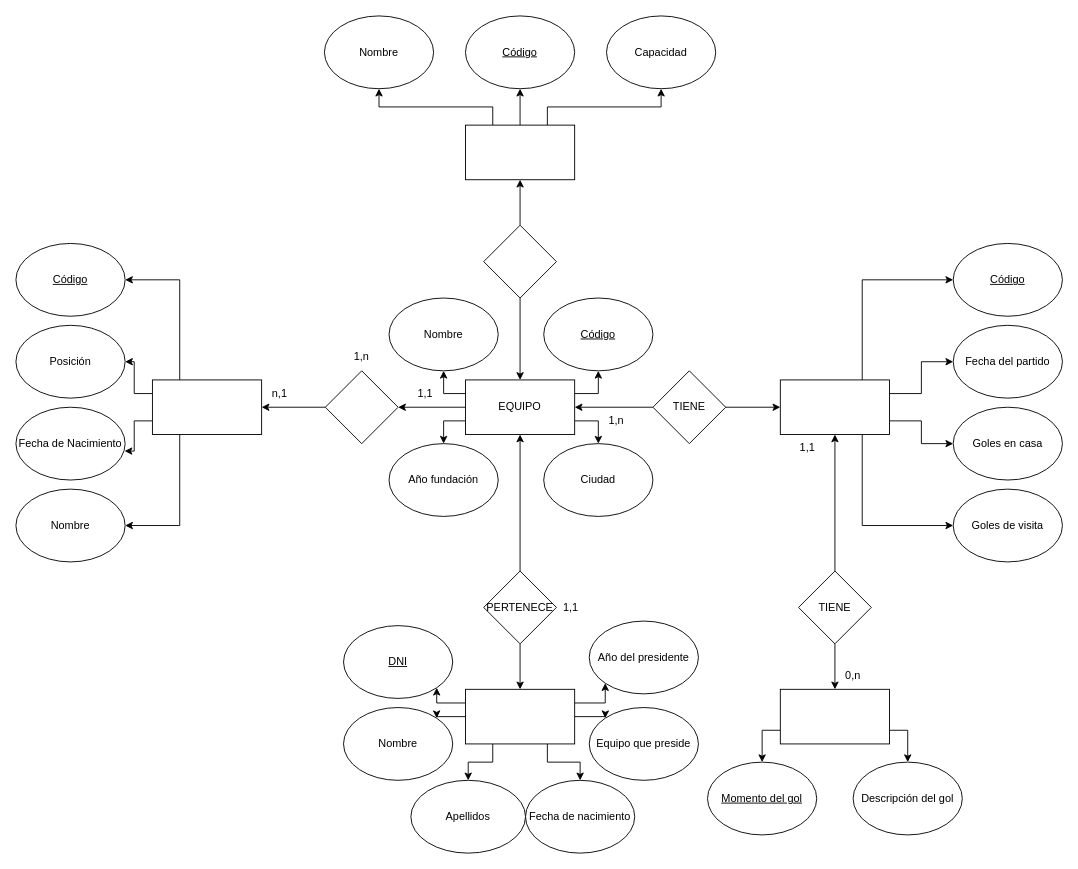
Some shapes in this 1078 by 869 pixel diagram are drawn without their labels. The shapes that lost their labels are listed below. From the top down, each one's centre as x and y in pixels, then its label:
(x=520, y=152): ESTADIO
(x=519, y=261): POSEE
(x=207, y=407): JUGADOR
(x=361, y=407): JUEGA
(x=834, y=407): PARTIDOS
(x=520, y=716): PRESIDENTES
(x=834, y=716): GOLES
